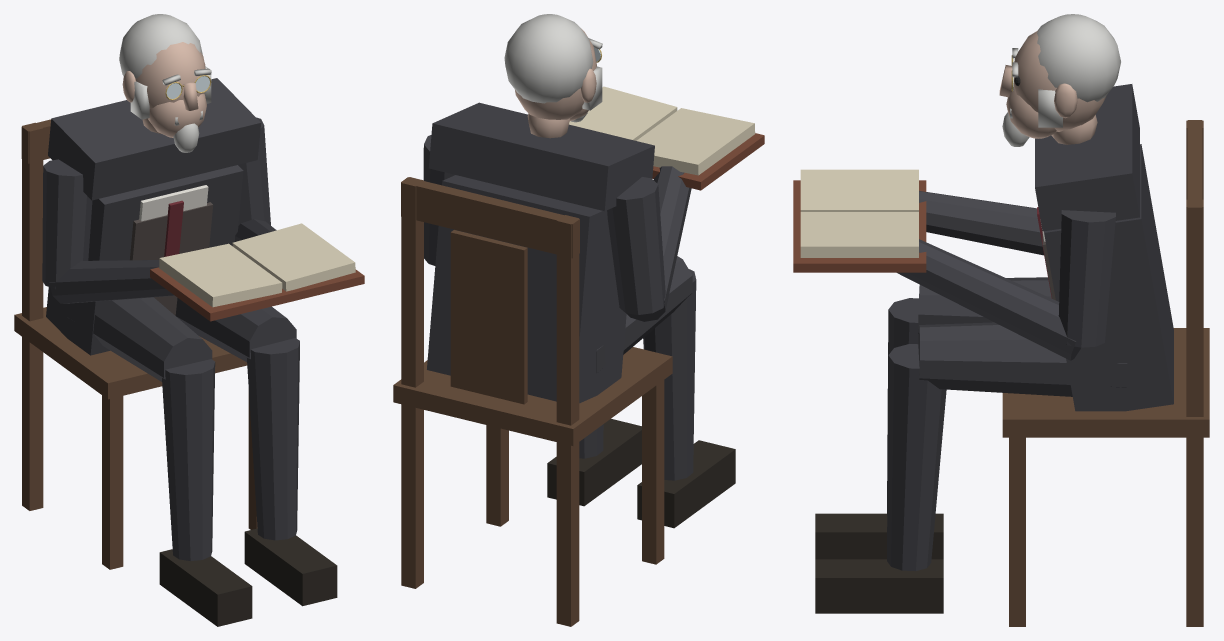
Rendered from armitage.glb.
The picture shows the model from 3 angles, left to right: view 1: azimuth 30°, elevation 25°; view 2: azimuth 150°, elevation 25°; view 3: azimuth 270°, elevation 25°; orthographic projection. The views are drawn at different scales.
Visible parts, largest first — view 1: Armitage_Body, Armitage_Head; view 2: Armitage_Body, Armitage_Head; view 3: Armitage_Body, Armitage_Head.
Part boxes in pixels (x1,y1,x2,y2): Armitage_Body: (14, 78, 364, 626); Armitage_Head: (119, 14, 211, 152); Armitage_Body: (393, 86, 764, 626); Armitage_Head: (504, 14, 602, 138); Armitage_Body: (793, 84, 1209, 626); Armitage_Head: (999, 14, 1120, 146).
Bounding box in the file's own units: 0.5797 × 1.27 × 0.845.
